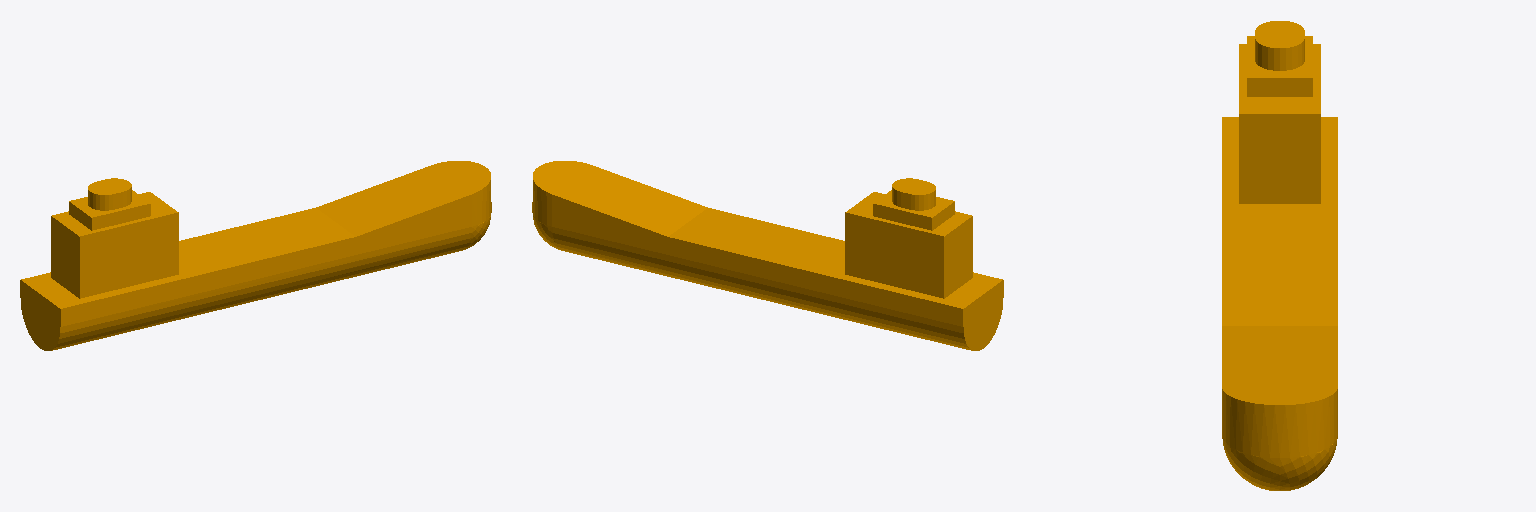
robot.urdf — super_tanker_vessel:
<?xml version="1.0"?>
<!-- Controllable cargo tanker traffic vessel. See sail_boat_vessel.urdf for
     the general method (mesh/box match models/super_tanker_vessel/model.sdf;
     mass is a class-plausible estimate - ~9000 tonnes displacement for a
     ~90m product-tanker-sized vessel; inertia is the solid-box
     approximation from that mass and the collision box). -->
<robot name="super_tanker_vessel">
    <link name="base_link">
        <inertial>
            <origin xyz="0 0 -14" rpy="0 0 0"/>
            <mass value="9000000"/>
            <inertia ixx="735000000" ixy="0" ixz="0" iyy="6663000000" iyz="0" izz="6222000000"/>
        </inertial>
        <visual>
            <origin xyz="0 0 -14" rpy="0 0 0"/>
            <geometry>
                <mesh filename="package://hybraut_nav_colreg_sim/models/super_tanker_vessel/meshes/SuperTanker.obj" scale="0.001 0.001 0.001"/>
            </geometry>
        </visual>
        <collision>
            <origin xyz="0 0 -14" rpy="0 0 0"/>
            <geometry>
                <box size="90 14 28"/>
            </geometry>
        </collision>
    </link>

    <gazebo reference="base_link">
        <gravity>false</gravity>
    </gazebo>

    <gazebo>
        <static>false</static>
        <plugin filename="gz-sim-velocity-control-system" name="gz::sim::systems::VelocityControl">
        </plugin>
        <plugin filename="gz-sim-odometry-publisher-system" name="gz::sim::systems::OdometryPublisher">
            <!-- Prefixed with the model name - see hydrofoil.urdf's
                 OdometryPublisher block for why: plain odom/base_link here
                 would collide with every other vessel's frame_ids on the
                 shared /tf topic. -->
            <odom_frame>super_tanker_vessel/odom</odom_frame>
            <robot_base_frame>super_tanker_vessel/base_link</robot_base_frame>
            <odom_publish_frequency>50</odom_publish_frequency>
            <dimensions>3</dimensions>
        </plugin>
    </gazebo>
</robot>

--- Facts derived from the render (not from the file) ---
3 views of the same robot in one strip: view 1: azimuth 30°, elevation 25°; view 2: azimuth 150°, elevation 25°; view 3: azimuth 270°, elevation 25° (orthographic).
Robot: super_tanker_vessel — 1 links, 0 joints (none); root link base_link; default pose: all joints at 0.
Links seen in each view (by area): view 1: base_link; view 2: base_link; view 3: base_link.
Link boxes in pixels (box(x1,y1,x2,y2)): base_link: box(20, 161, 491, 350); base_link: box(532, 161, 1003, 350); base_link: box(1222, 21, 1337, 490).
Size in the robot's own frame: 90 by 14 by 28 metres.
1 mesh visuals loaded from 1 distinct referenced files (1 OBJ).
